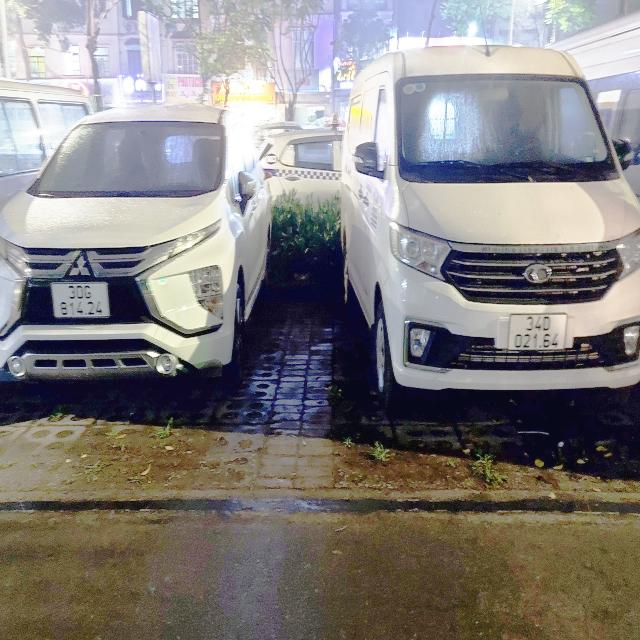license_plate: (506, 311, 572, 356), (49, 281, 112, 322)
